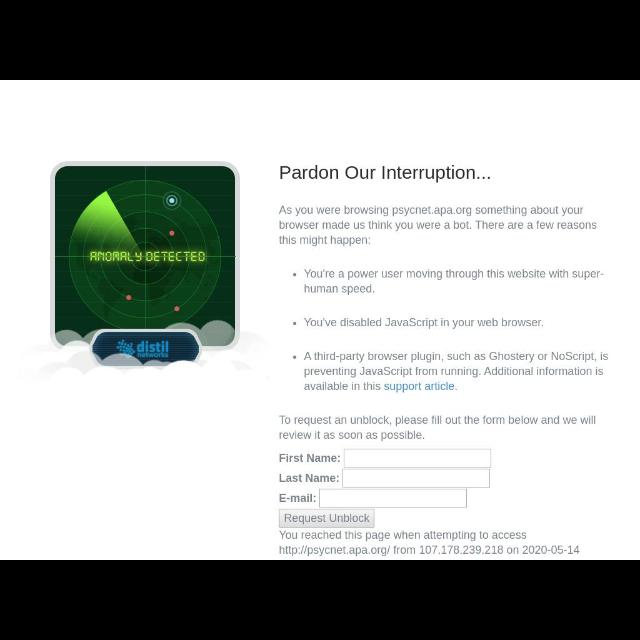icon: (288, 268, 300, 282), (288, 351, 300, 365), (288, 318, 300, 328)
image: (49, 157, 250, 375)
input: (346, 447, 492, 468), (320, 491, 466, 507), (345, 471, 491, 485)
text: (272, 200, 598, 246), (302, 351, 610, 393), (276, 412, 596, 442), (302, 266, 604, 296), (279, 529, 581, 559), (277, 162, 501, 188), (302, 316, 544, 330), (284, 512, 371, 526), (278, 472, 339, 483), (276, 454, 342, 464), (279, 492, 317, 503)
textbutton: (280, 509, 374, 526)
